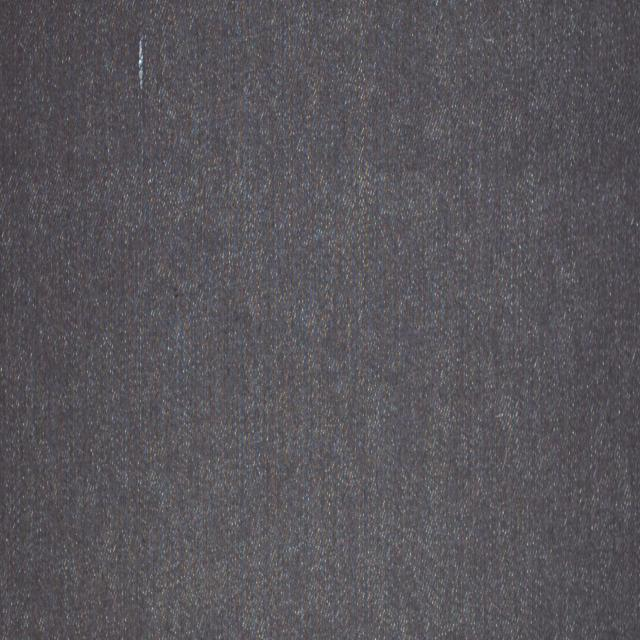Knot: (137, 36, 144, 88)
